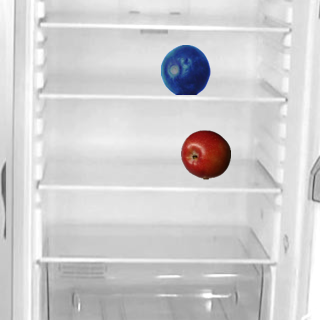Apple Braeburn: (180, 129, 230, 179)
Huckleberry: (160, 44, 210, 94)
